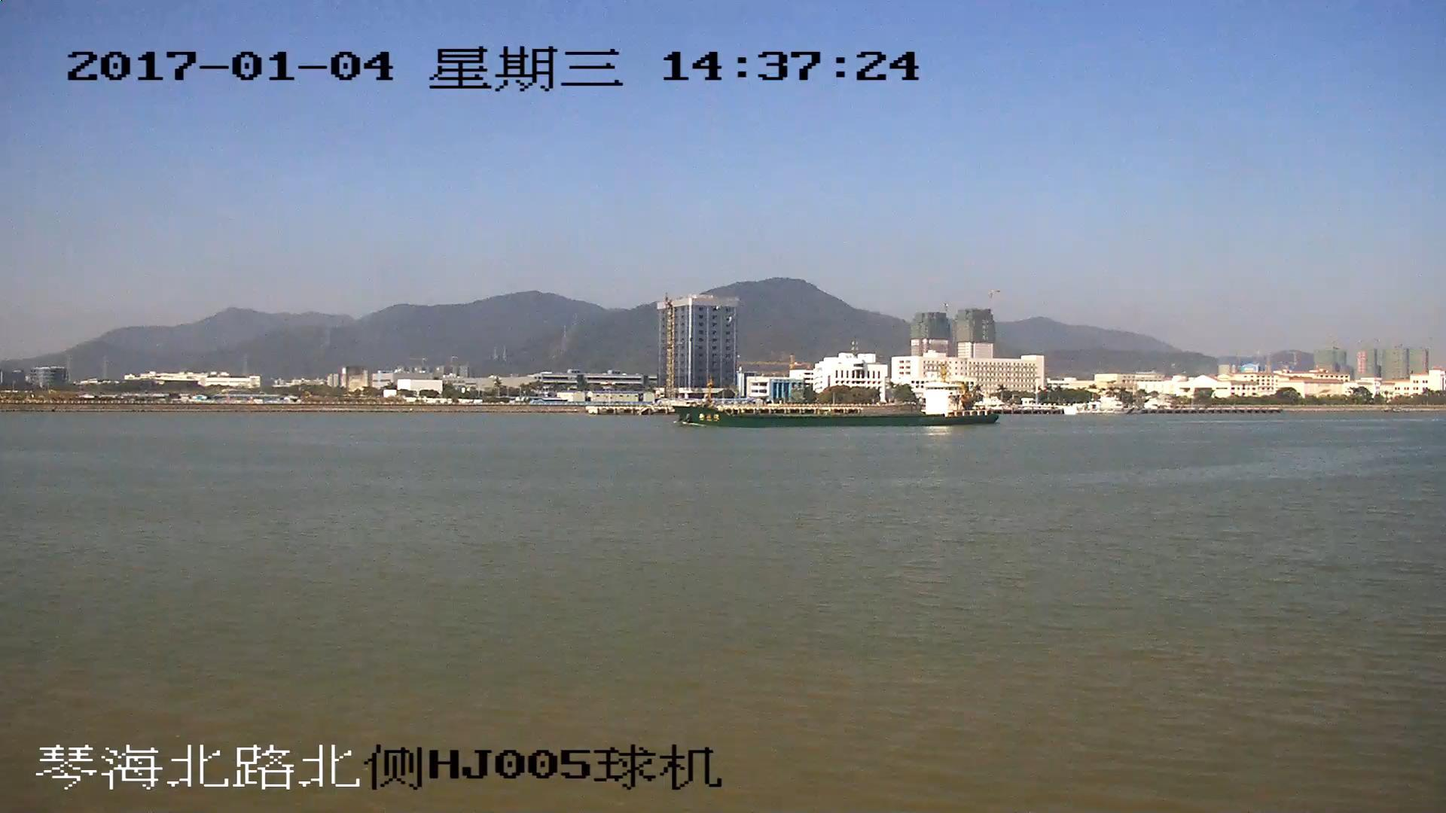general cargo ship: (673, 376, 999, 428)
